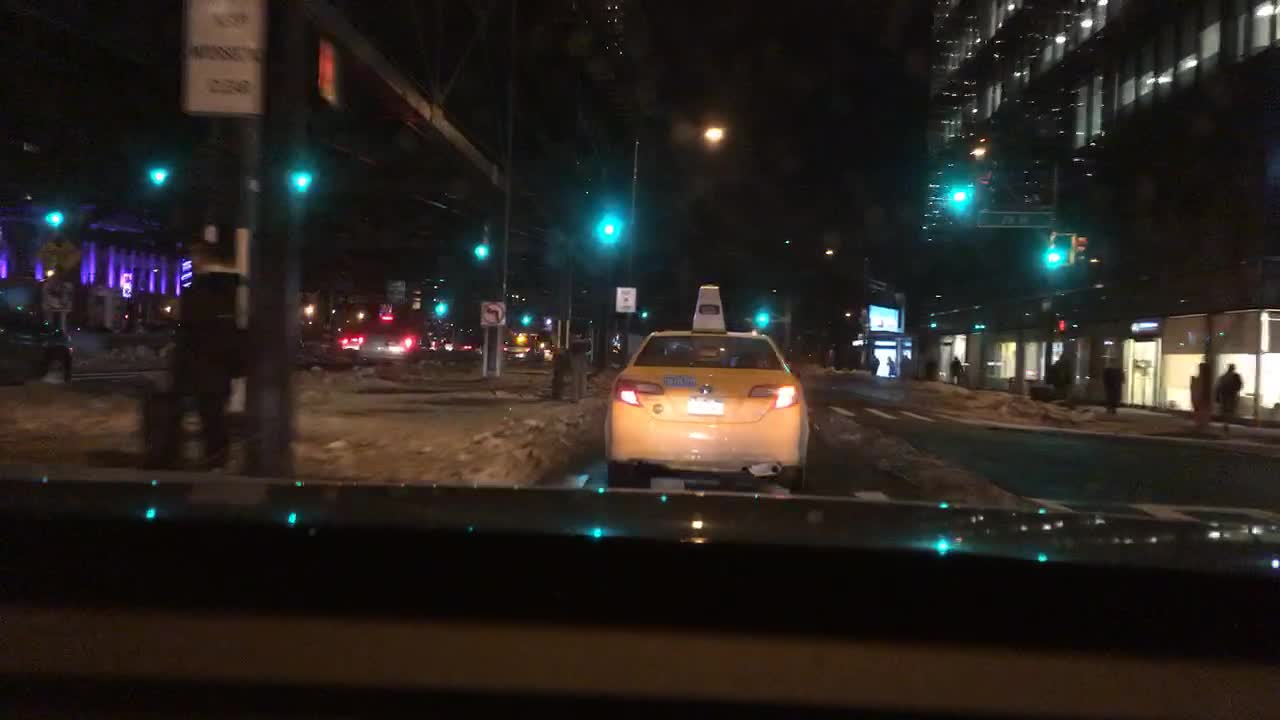car: (603, 284, 808, 496), (1, 269, 76, 386), (355, 324, 417, 368), (439, 330, 487, 361), (334, 321, 368, 356), (504, 325, 535, 361), (417, 328, 442, 354), (536, 330, 556, 356)
person: (1215, 363, 1242, 432), (1100, 354, 1125, 415), (1048, 349, 1070, 396), (949, 350, 963, 381), (920, 356, 935, 384), (868, 351, 878, 375), (884, 353, 893, 376)
traffic light: (284, 167, 316, 194), (1069, 234, 1089, 268), (974, 167, 991, 202), (950, 169, 965, 208), (147, 160, 169, 185), (1046, 235, 1064, 264), (472, 229, 487, 262), (42, 209, 66, 229), (602, 208, 616, 237), (435, 296, 450, 316), (756, 306, 769, 325), (1055, 314, 1068, 331), (521, 309, 531, 326), (641, 300, 648, 319)
traffic sign: (185, 1, 265, 117), (33, 233, 83, 275), (978, 209, 1060, 228), (43, 279, 77, 313), (479, 300, 505, 326), (616, 285, 636, 311)
